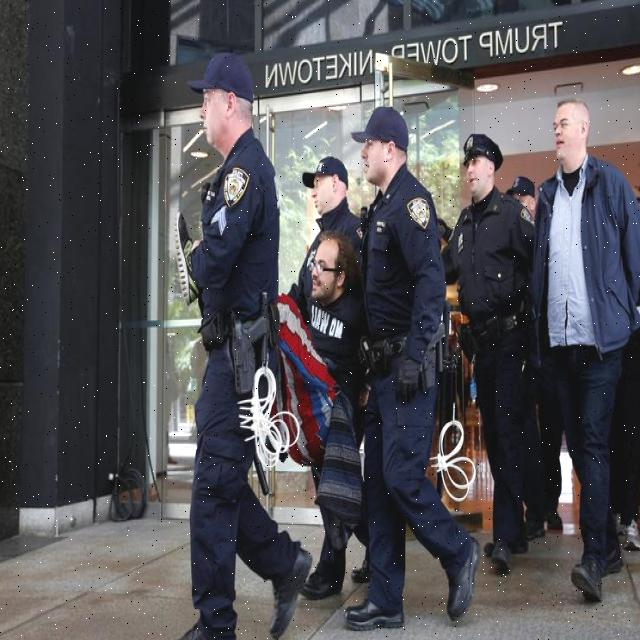police: (168, 36, 308, 640), (350, 108, 474, 639), (453, 127, 537, 606)
